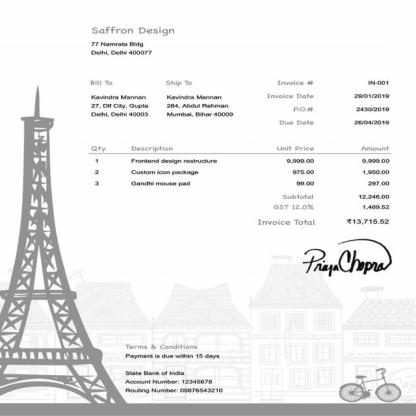Paragraph: (266, 79, 390, 126), (122, 342, 224, 394), (163, 80, 235, 118), (88, 25, 176, 56), (88, 79, 151, 118), (256, 218, 391, 226)
Table: (88, 143, 392, 211)
